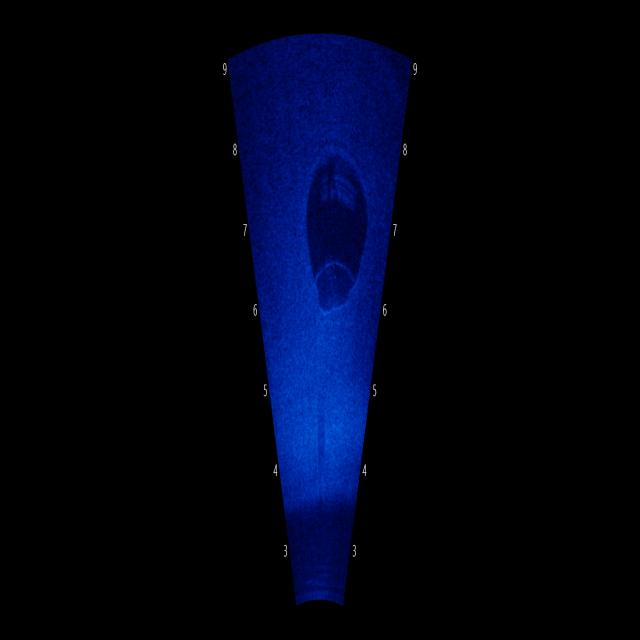circle: (297, 125, 373, 336)
